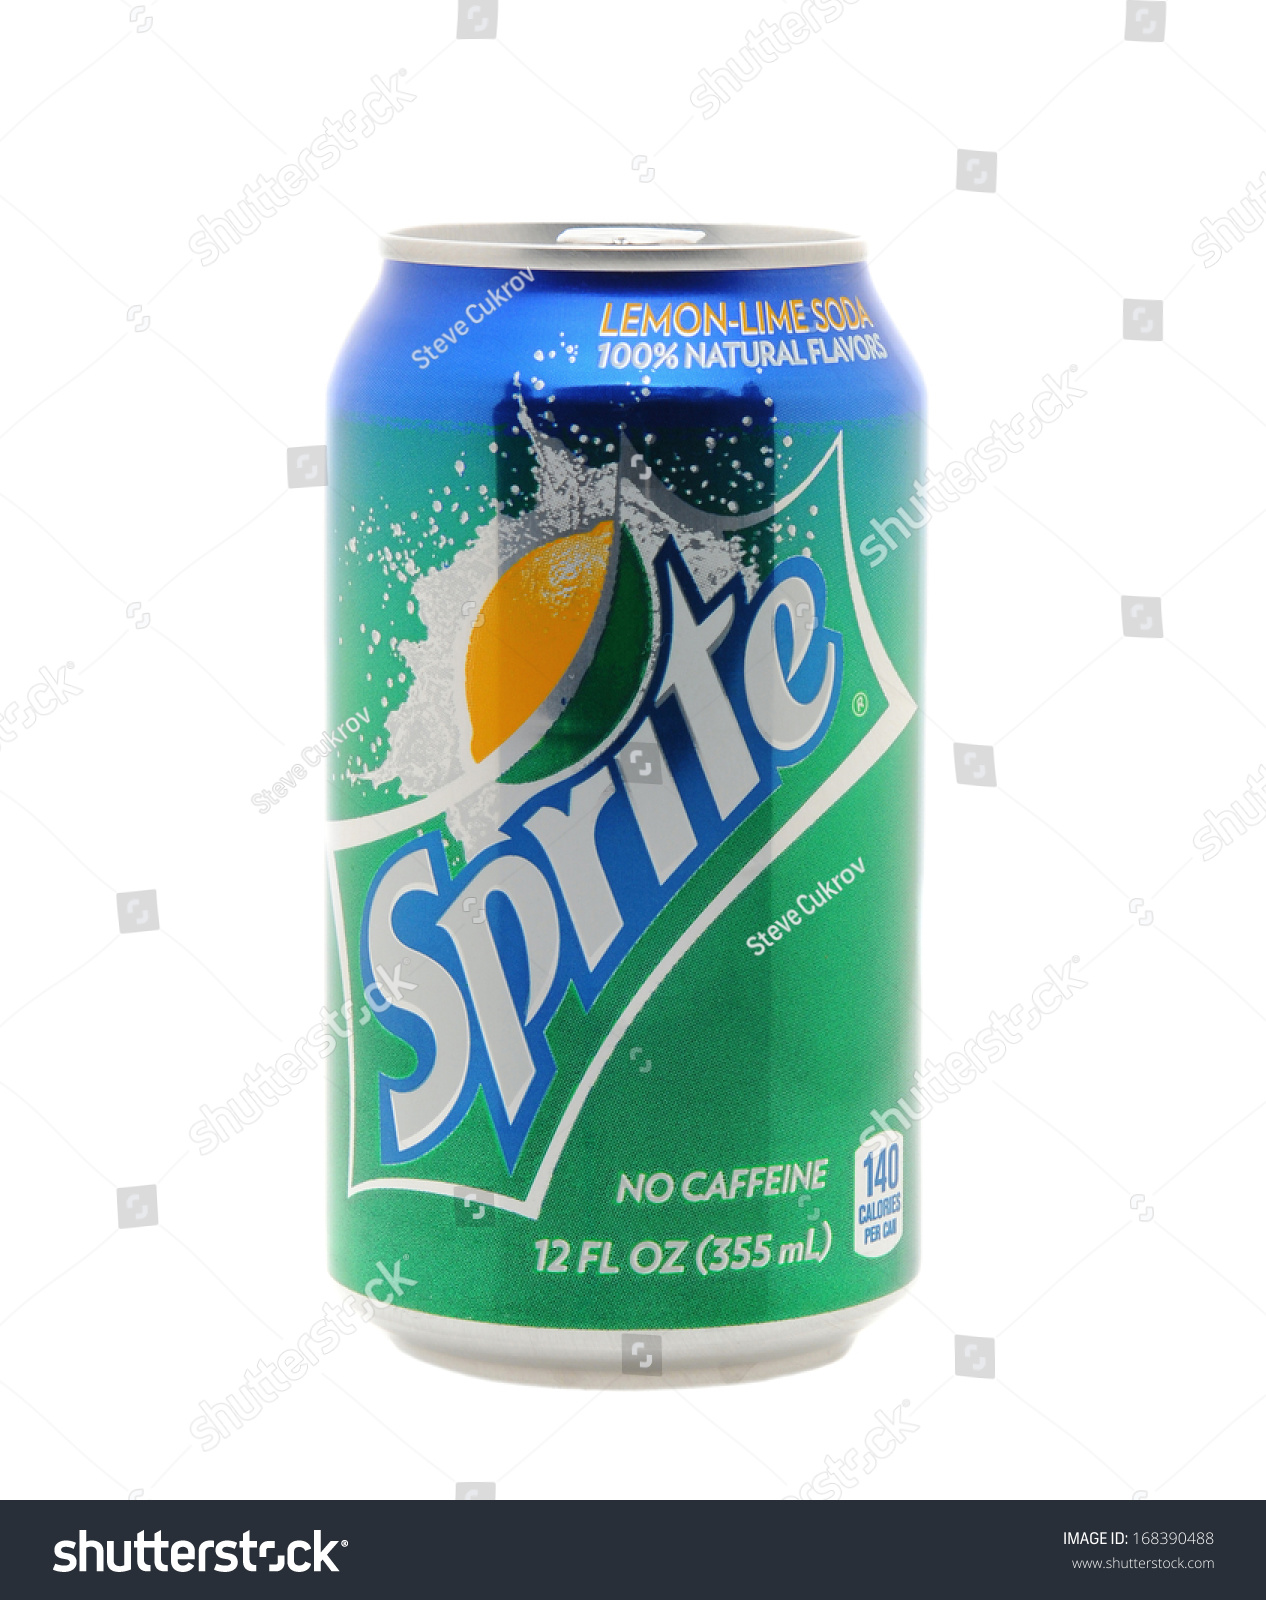sprite: (369, 542, 834, 1165), (369, 542, 834, 1151), (386, 542, 834, 1165)
